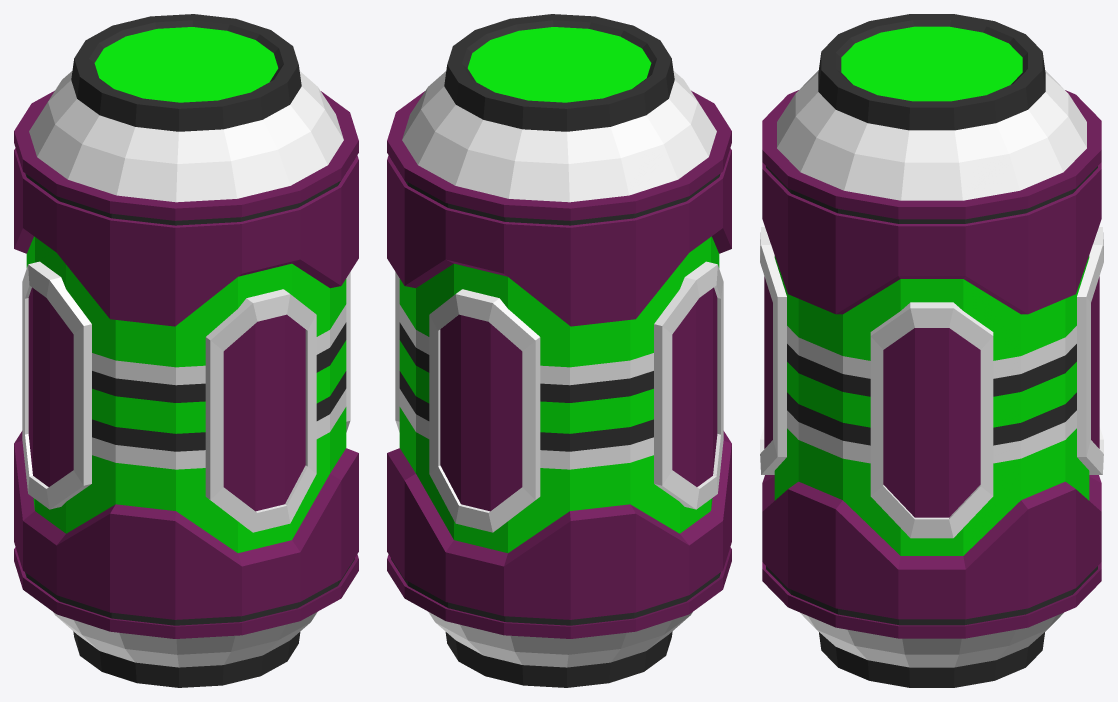
Rendered from Ammo_Pickup_3.fbx.
The picture shows the model from 3 angles, left to right: view 1: azimuth 30°, elevation 25°; view 2: azimuth 150°, elevation 25°; view 3: azimuth 270°, elevation 25°; orthographic projection.
Parts seen in each view (by area): view 1: Props_Capsule; view 2: Props_Capsule; view 3: Props_Capsule.
Part boxes in pixels (x1,y1,x2,y2): Props_Capsule: (14,14,358,687); Props_Capsule: (387,14,731,687); Props_Capsule: (760,14,1103,687).
Size of the model in its own units: 8.69 by 16.19 by 8.69.
